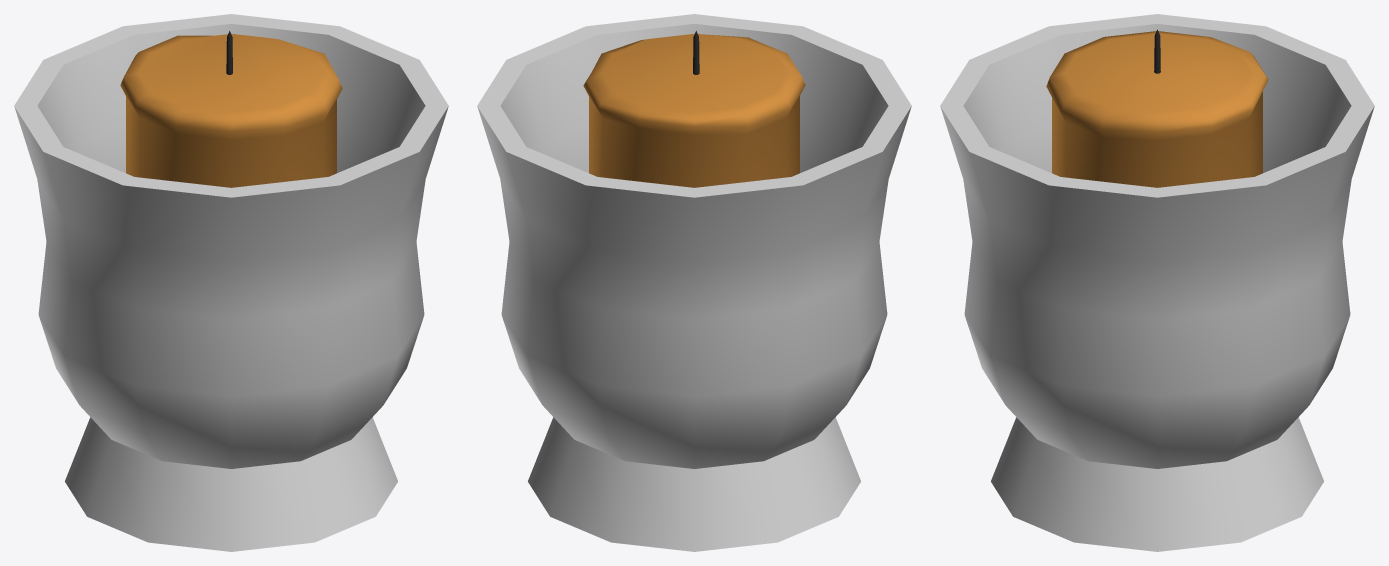
The model's file is Candle_03.fbx.
3 renders of one model, left to right at view 1: azimuth 30°, elevation 25°; view 2: azimuth 150°, elevation 25°; view 3: azimuth 270°, elevation 25°, orthographic.
Parts seen in each view (by area): view 1: Candle_03; view 2: Candle_03; view 3: Candle_03.
Boxes of the visible parts, x1,y1,x2,y2 form: Candle_03: (14,14,448,551); Candle_03: (477,14,911,551); Candle_03: (940,14,1374,551).
Size of the model in its own units: 0.1716 by 0.1966 by 0.1716.
